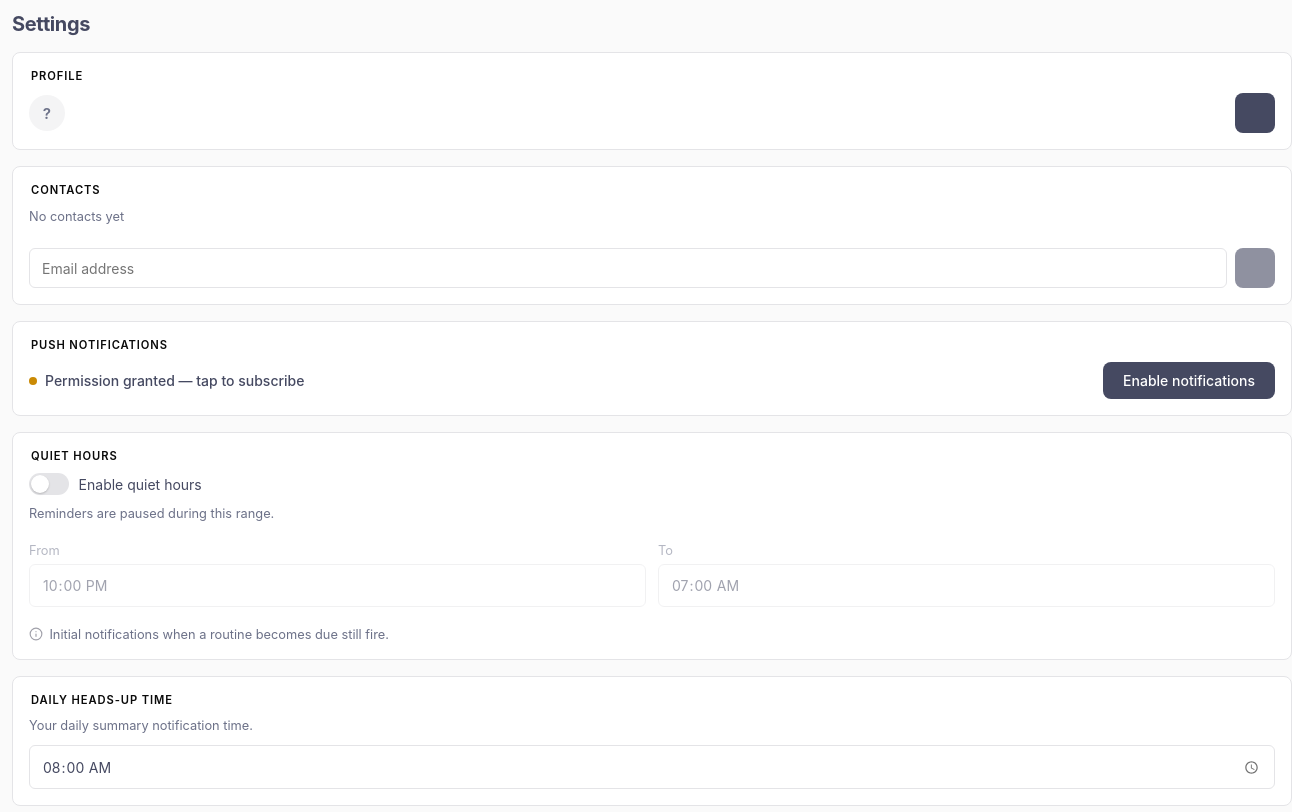
Test: SettingsPage › Quiet hours (T187) › enables the time inputs and PATCHes when the toggle is turned on
Click the switch named "Enable quiet hours". click: (49,484)
box: [29,473,69,495]
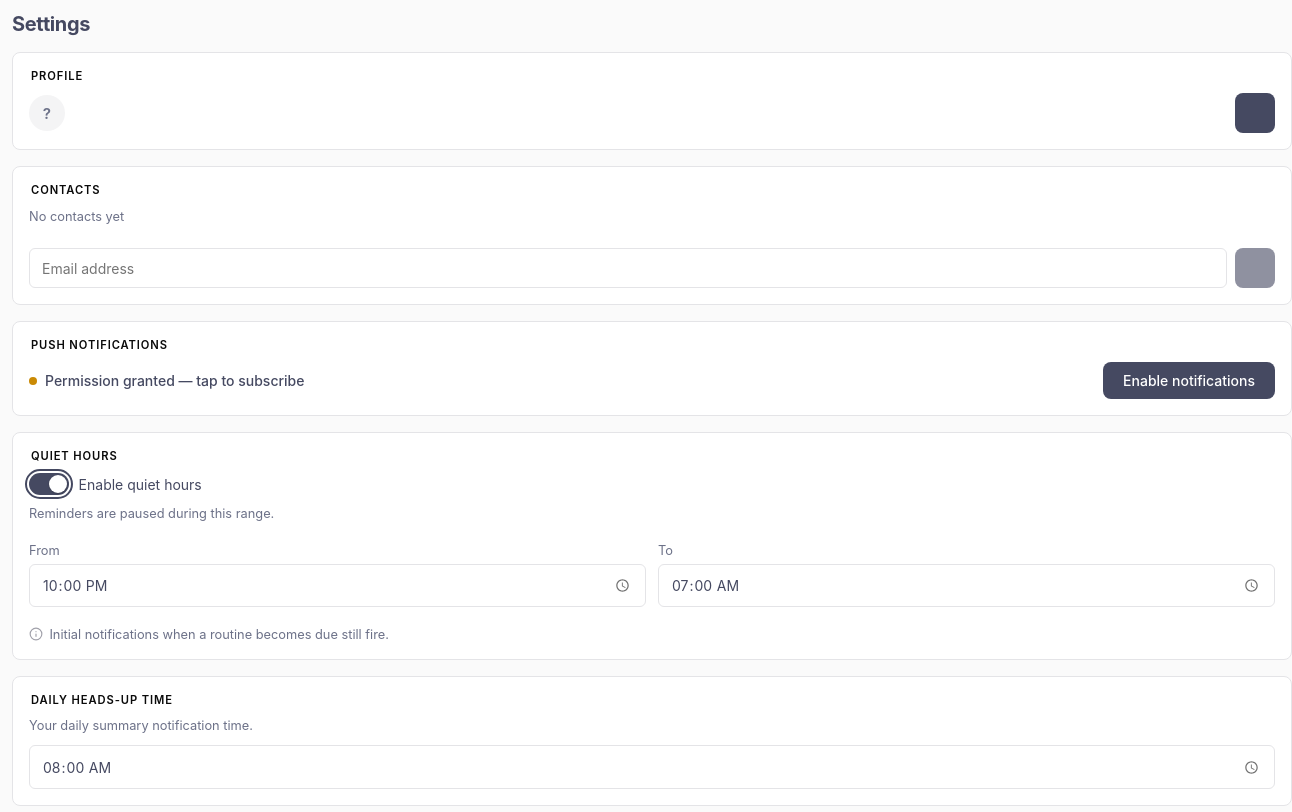
Check: the time field with test id "quiet-hours-start" is enabled, box [29,564,646,607]
Check: the time field with test id "quiet-hours-end" is enabled, box [658,564,1275,607]
